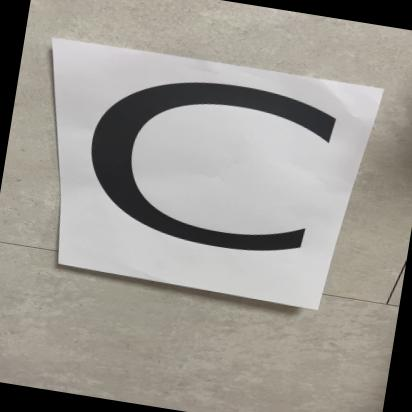seat: (24, 42, 367, 309)
